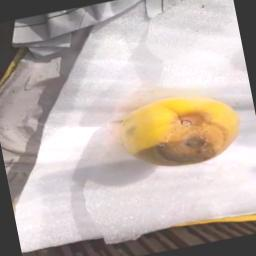Peach Rotten: (110, 74, 255, 190)
